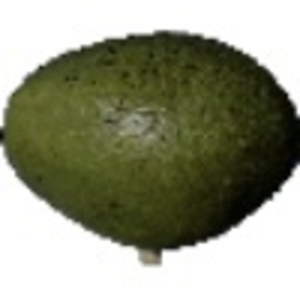abacate: (2, 31, 299, 253)
